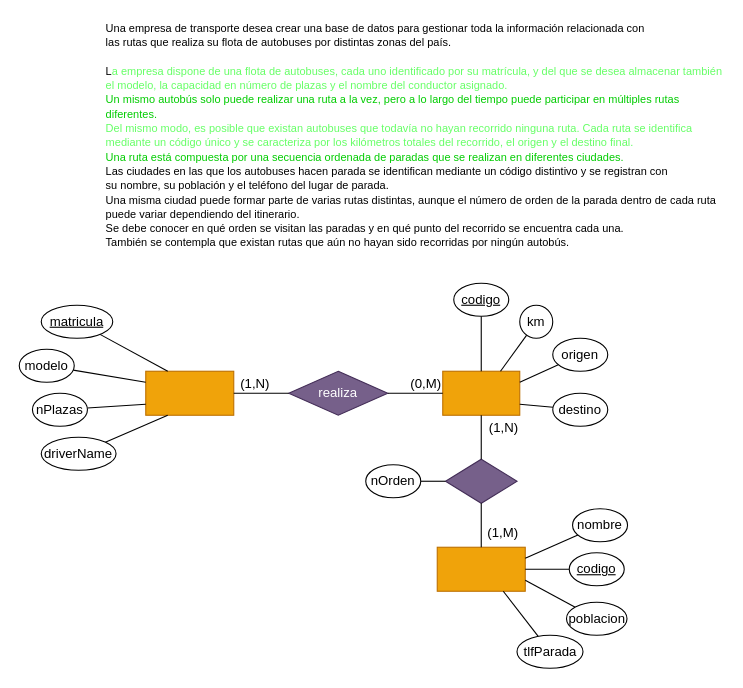
This 743x688 diagram has some shape labels left out. The centre of each missing label's shape, as x and y in pixels:
"autobus" goes at pixel 189 392.
"ciudad" goes at pixel 480 568.
"para" goes at pixel 480 480.
"ruta" goes at pixel 481 392.
